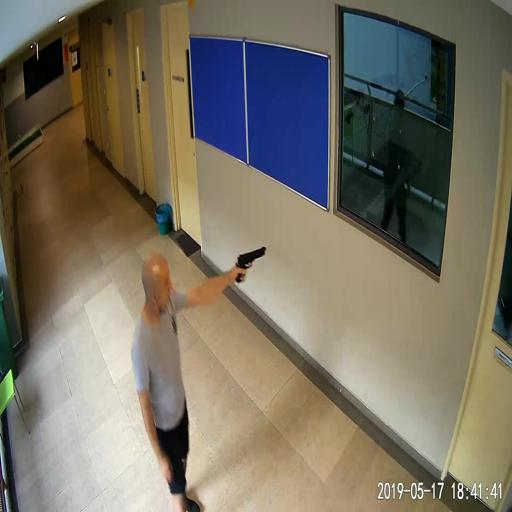pistol: (235, 246, 265, 283)
